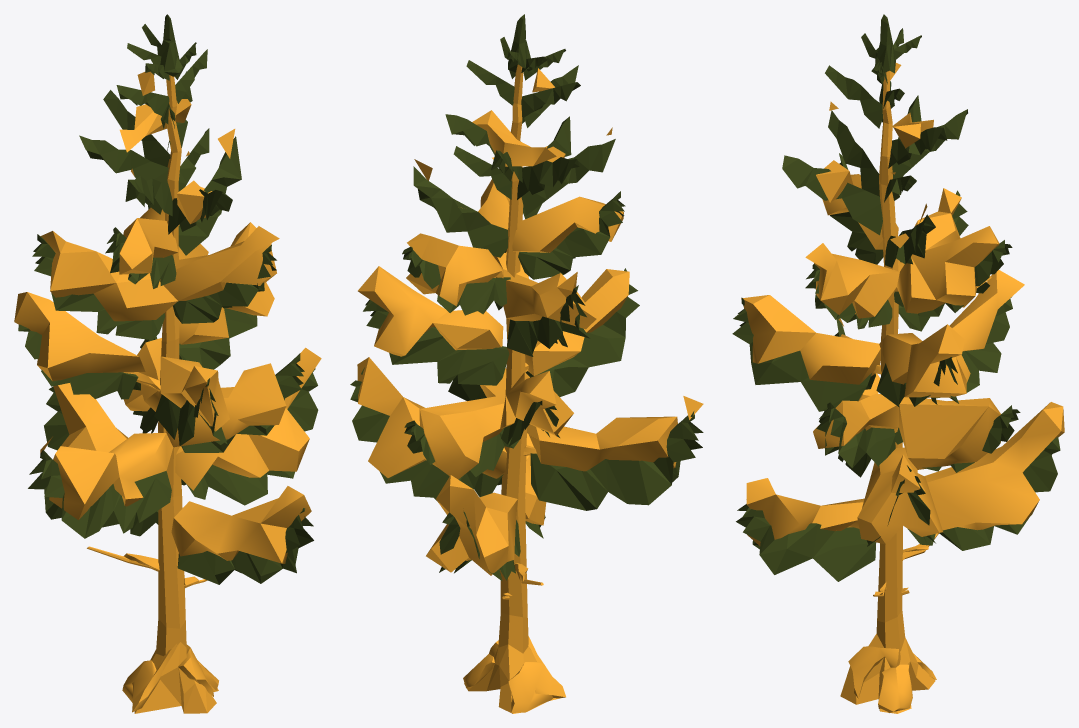
Rendered from SM_Tree_Spruce_Young_A_Snow.fbx.
3 views of the same model, side by side, from view 1: azimuth 30°, elevation 25°; view 2: azimuth 150°, elevation 25°; view 3: azimuth 270°, elevation 25° (orthographic). The views are drawn at different scales.
Parts seen in each view (by area): view 1: tree-spruce-young-a-snow; view 2: tree-spruce-young-a-snow; view 3: tree-spruce-young-a-snow.
Part boxes in pixels (bbox=[...]): tree-spruce-young-a-snow: bbox=[14, 14, 321, 713]; tree-spruce-young-a-snow: bbox=[350, 14, 703, 713]; tree-spruce-young-a-snow: bbox=[732, 14, 1064, 713].
Size of the model in its own units: 2.94 by 6.04 by 2.7.
